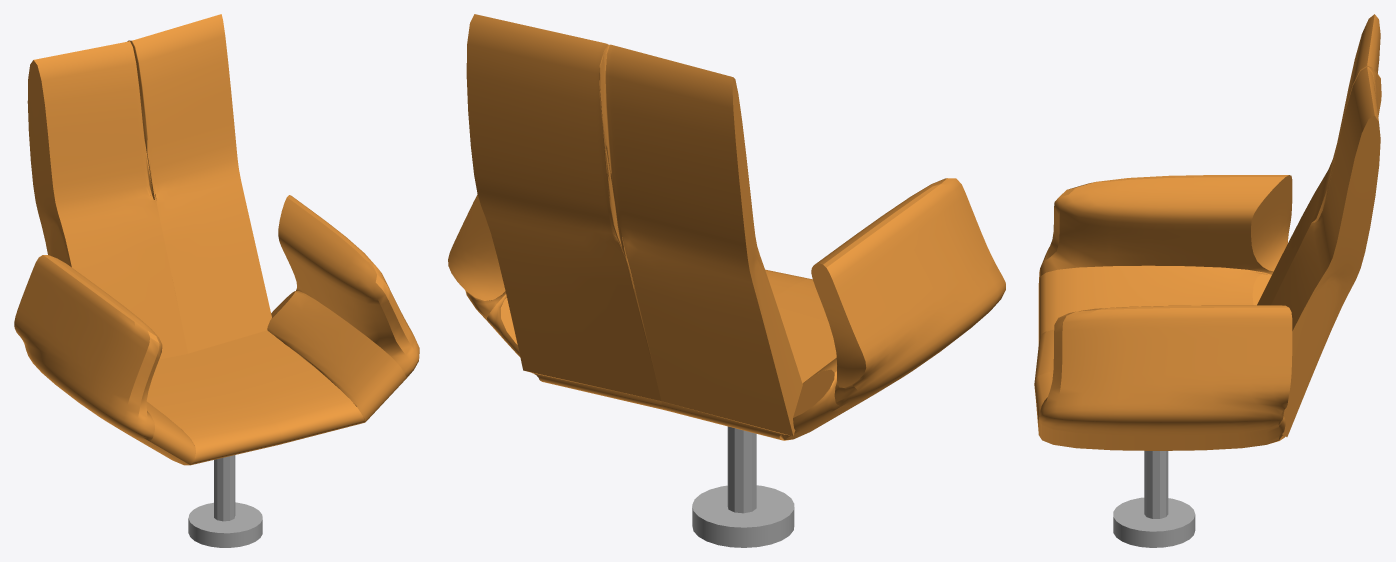
Rendered from Chair2.fbx.
3 views of the same model, side by side, from view 1: azimuth 30°, elevation 25°; view 2: azimuth 150°, elevation 25°; view 3: azimuth 270°, elevation 25° (orthographic). The views are drawn at different scales.
Parts seen in each view (by area): view 1: Cube, Cylinder, Cylinder.001; view 2: Cube, Cylinder, Cylinder.001; view 3: Cube, Cylinder, Cylinder.001.
Part boxes in pixels (bbox=[...]): Cube: bbox=[14, 14, 419, 465]; Cylinder: bbox=[188, 502, 262, 547]; Cylinder.001: bbox=[214, 455, 235, 521]; Cube: bbox=[448, 14, 1005, 440]; Cylinder: bbox=[692, 485, 794, 547]; Cylinder.001: bbox=[727, 426, 756, 513]; Cube: bbox=[1034, 14, 1381, 450]; Cylinder: bbox=[1113, 497, 1195, 547]; Cylinder.001: bbox=[1144, 451, 1168, 518].
Bounding box in the file's own units: 470 × 600 × 404.
